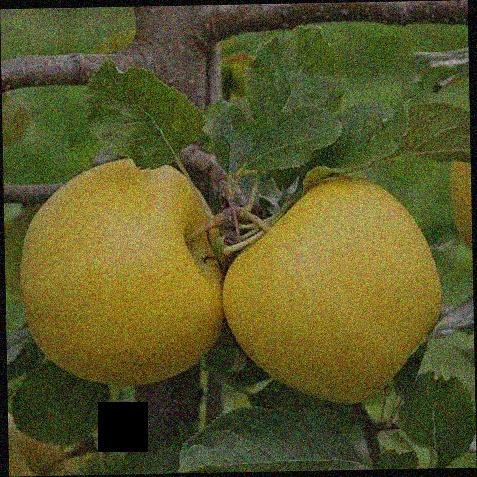green apple: (17, 158, 226, 400), (227, 170, 444, 403)
